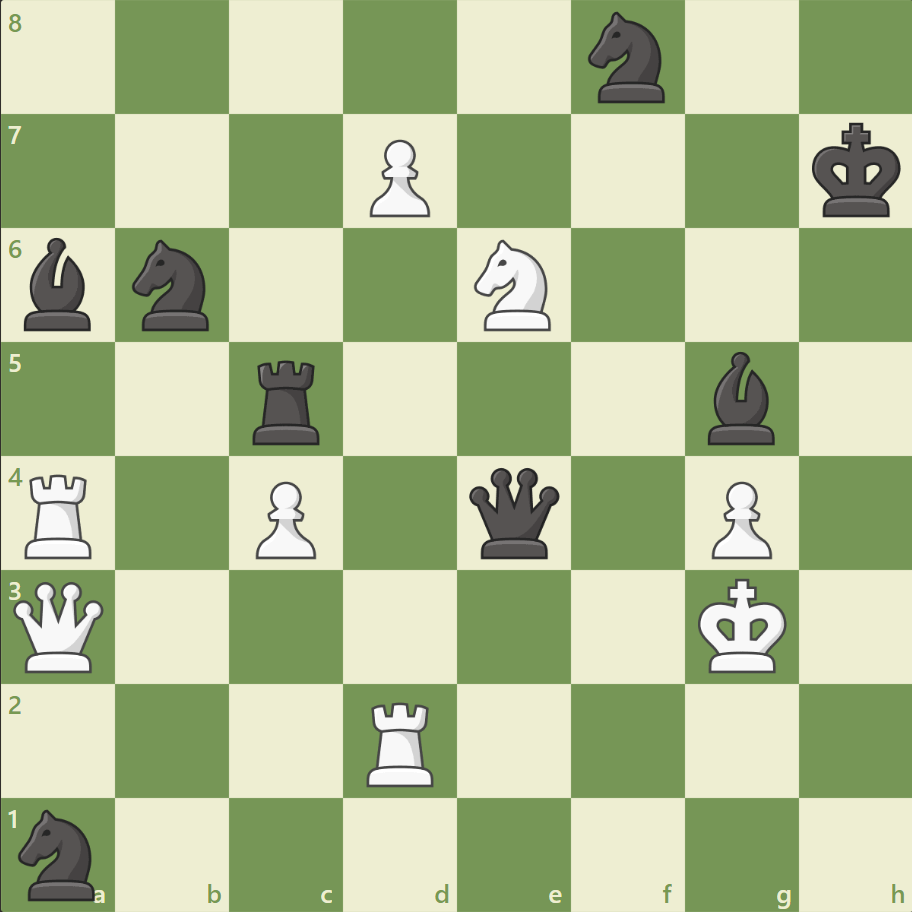K: (692, 571, 792, 679)
N: (465, 234, 562, 337)
P: (247, 473, 322, 564), (701, 473, 776, 564), (361, 132, 435, 223)
Q: (10, 576, 109, 676)
R: (19, 466, 102, 563), (360, 693, 442, 790)
b: (17, 233, 101, 336), (698, 347, 782, 449)
k: (806, 117, 906, 225)
n: (124, 234, 222, 337), (579, 7, 676, 110), (11, 802, 108, 904)
q: (464, 463, 563, 562)
r: (246, 352, 329, 449)
